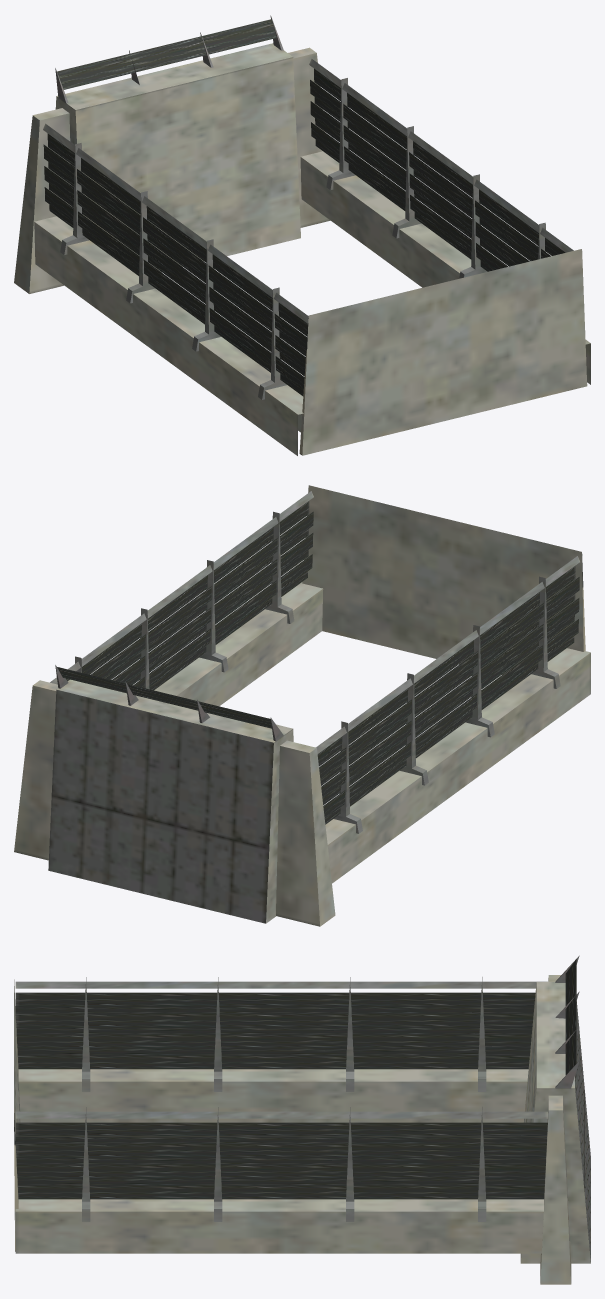
Rendered from poi_all_corral_pen_8x16_s01_l1.fbx.
3 renders of one model, top to bottom at view 1: azimuth 30°, elevation 25°; view 2: azimuth 150°, elevation 25°; view 3: azimuth 270°, elevation 25°, orthographic.
Parts seen in each view (by area): view 1: mesh_node; view 2: mesh_node; view 3: mesh_node.
Part boxes in pixels (x1,y1,x2,y2): mesh_node: (14, 15, 590, 455); mesh_node: (14, 485, 590, 926); mesh_node: (14, 955, 590, 1284).
Size of the model in its own units: 11.5 by 7.27 by 18.75.
1 material, 1 textured.
